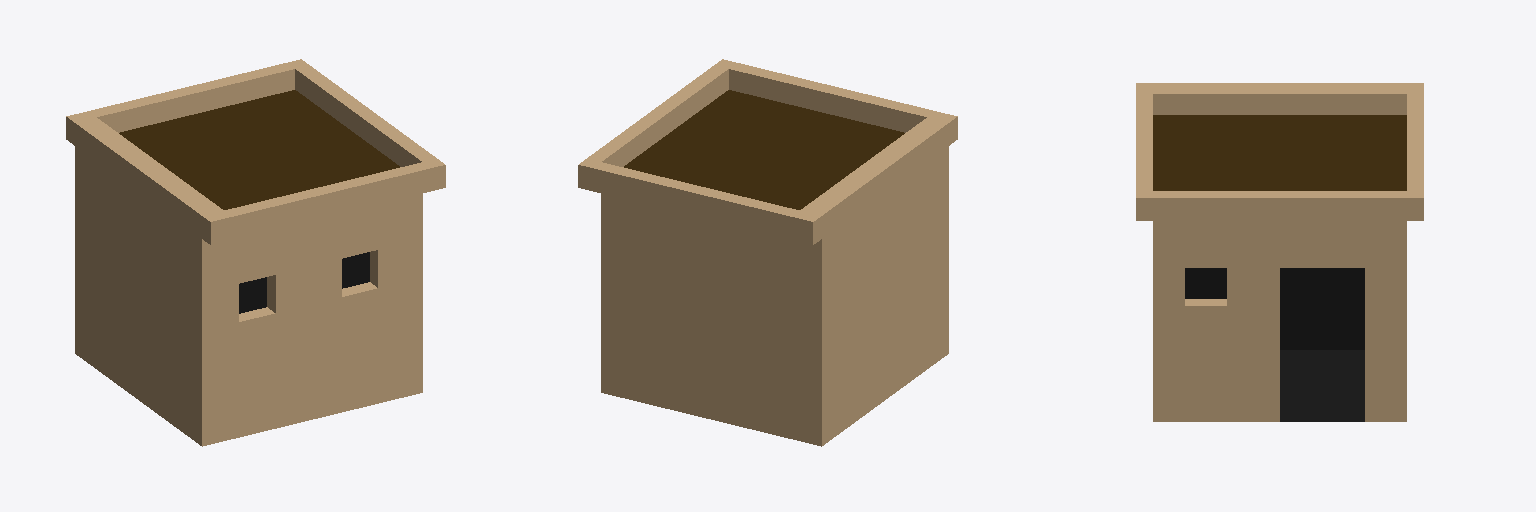
File: 02TekKat.obj
3 renders of one model, left to right at view 1: azimuth 30°, elevation 25°; view 2: azimuth 150°, elevation 25°; view 3: azimuth 270°, elevation 25°, orthographic.
Parts seen in each view (by area): view 1: Group; view 2: Group; view 3: Group.
Part boxes in pixels (left/top/right/bottom): Group: left=66, top=59, right=445, bottom=446; Group: left=578, top=59, right=957, bottom=446; Group: left=1136, top=83, right=1423, bottom=421.
Size of the model in its own units: 4.8 by 4.5 by 5.1.